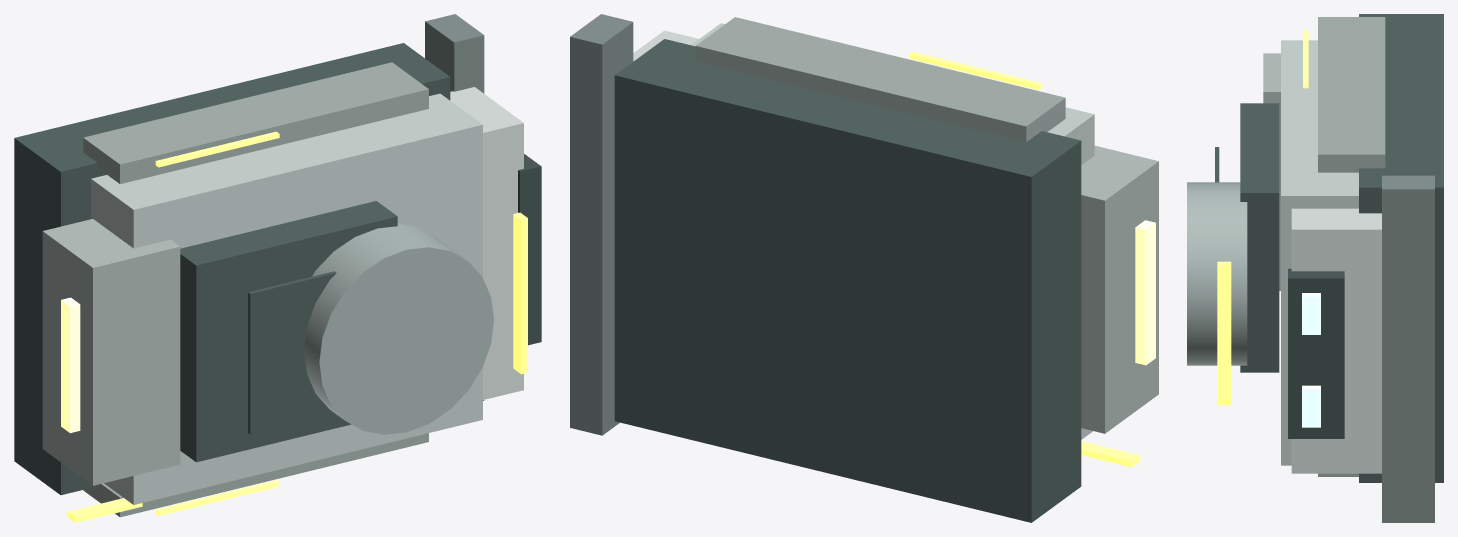
Rendered from hull.glb.
3 views of the same model, side by side, from view 1: azimuth 30°, elevation 25°; view 2: azimuth 150°, elevation 25°; view 3: azimuth 270°, elevation 25° (orthographic). The views are drawn at different scales.
Visible parts, largest first — view 1: main_hull, rear_module, sensor_tower, equipment_deck, armored_belly, side_guard_left, sloped_nose, ro3_service_glass, front_bumper, side_guard_right, face_mask, rear_status (+4 smaller); view 2: armored_belly, front_bumper, side_guard_left, rear_module, rear_status, main_hull, ro3_side_trim_left, ro3_rear_status_strip; view 3: front_bumper, sloped_nose, armored_belly, side_guard_left, sensor_tower, main_hull, equipment_deck, face_mask, ro3_sensor_band, rear_module, eye_right, eye_left (+1 smaller).
Part boxes in pixels (box(x1,y1,x2,y2)): main_hull: box(91, 93, 482, 504); rear_module: box(42, 219, 180, 485); sensor_tower: box(304, 223, 493, 434); equipment_deck: box(180, 201, 397, 462); armored_belly: box(14, 43, 450, 495); side_guard_left: box(83, 62, 428, 183); sloped_nose: box(450, 87, 523, 399); ro3_service_glass: box(248, 271, 336, 434); front_bumper: box(425, 14, 484, 400); side_guard_right: box(83, 433, 428, 517); face_mask: box(518, 154, 541, 345); rear_status: box(61, 297, 80, 433); armored_belly: box(614, 39, 1081, 522); front_bumper: box(570, 14, 633, 435); side_guard_left: box(695, 17, 1065, 142); rear_module: box(1081, 145, 1158, 433); rear_status: box(1135, 220, 1155, 365); main_hull: box(691, 23, 1094, 439); ro3_side_trim_left: box(909, 51, 1042, 89); ro3_rear_status_strip: box(1081, 441, 1140, 467); front_bumper: box(1382, 175, 1434, 522); sloped_nose: box(1291, 208, 1381, 473); armored_belly: box(1359, 14, 1443, 482); side_guard_left: box(1318, 17, 1385, 172); sensor_tower: box(1187, 182, 1247, 365); main_hull: box(1281, 40, 1358, 465); equipment_deck: box(1240, 103, 1279, 372); face_mask: box(1288, 268, 1344, 438); ro3_sensor_band: box(1217, 261, 1231, 405); rear_module: box(1263, 53, 1280, 290); eye_right: box(1302, 385, 1320, 427); eye_left: box(1302, 293, 1320, 334).
Bounding box in the file's own units: 0.7145 × 0.52 × 0.3625.
